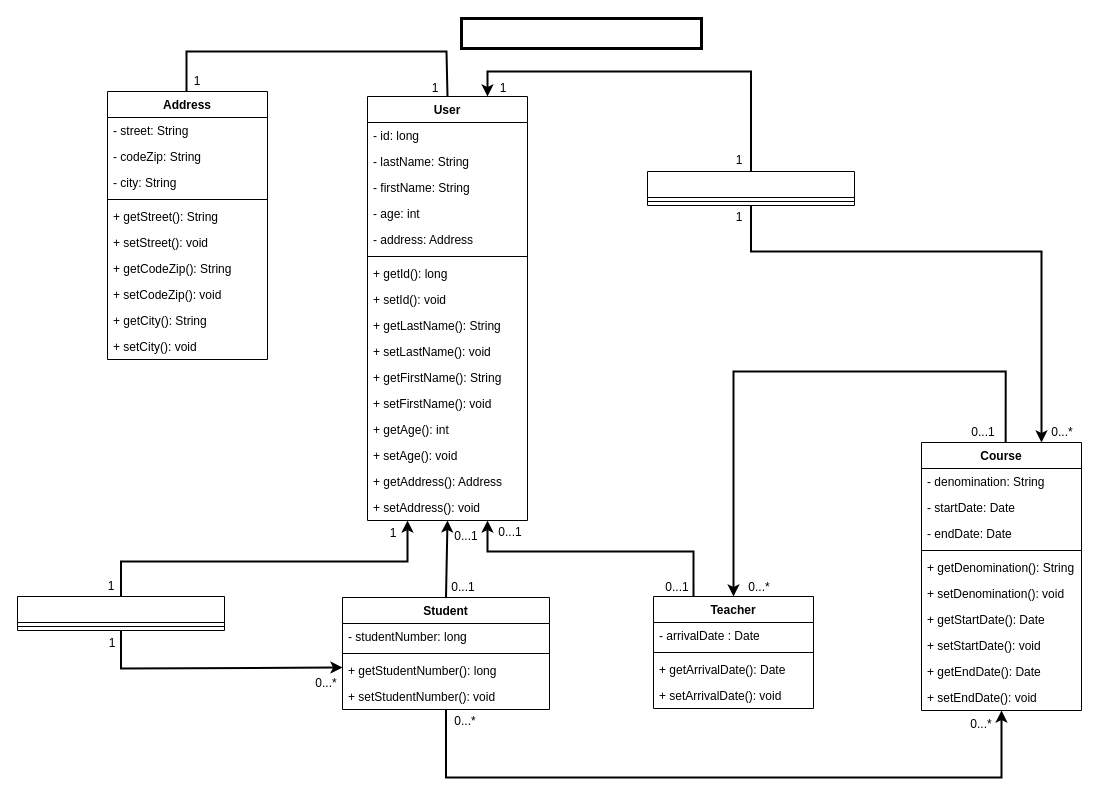
Image size: 1100x804. Some labels were removed from this diagram. Here are the shapes that lost their labels. From the top down, the centre of each, then its label:
At pixel 581 33: "Class diagram School Management".
At pixel 750 188: "Academic Coordinator".
At pixel 120 613: "Director".
